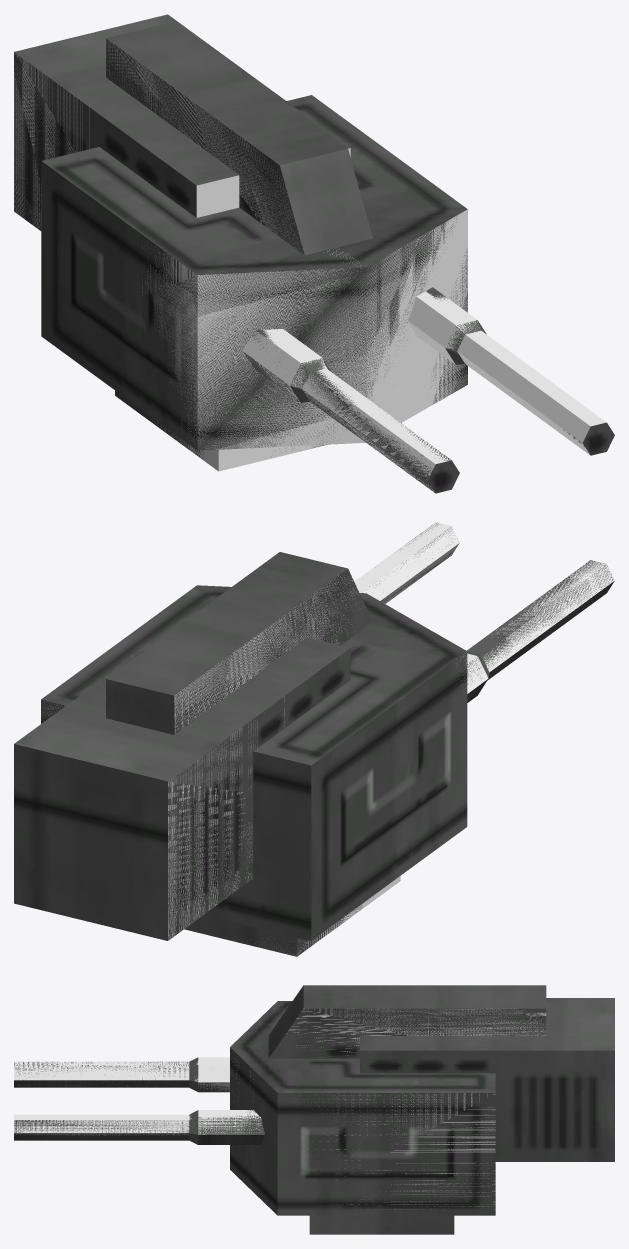
Rendered from Wavecrest_Turret01.obj.
3 renders of one model, top to bottom at view 1: azimuth 30°, elevation 25°; view 2: azimuth 150°, elevation 25°; view 3: azimuth 270°, elevation 25°, orthographic. The views are drawn at different scales.
Visible parts, largest first — view 1: Turret_01, Shadow, Barrel_01; view 2: Turret_01, Shadow, Barrel_01; view 3: Turret_01, Shadow, Barrel_01.
Boxes of the visible parts, x1,y1,x2,y2 form: Turret_01: (14, 14, 467, 459); Shadow: (14, 39, 606, 491); Barrel_01: (242, 287, 614, 493); Turret_01: (14, 552, 467, 956); Shadow: (41, 522, 614, 955); Barrel_01: (362, 523, 614, 702); Turret_01: (230, 985, 614, 1234); Shadow: (14, 1008, 546, 1209); Barrel_01: (14, 1057, 264, 1144).
Size of the model in its own units: 23.57 by 24.61 by 64.99.
